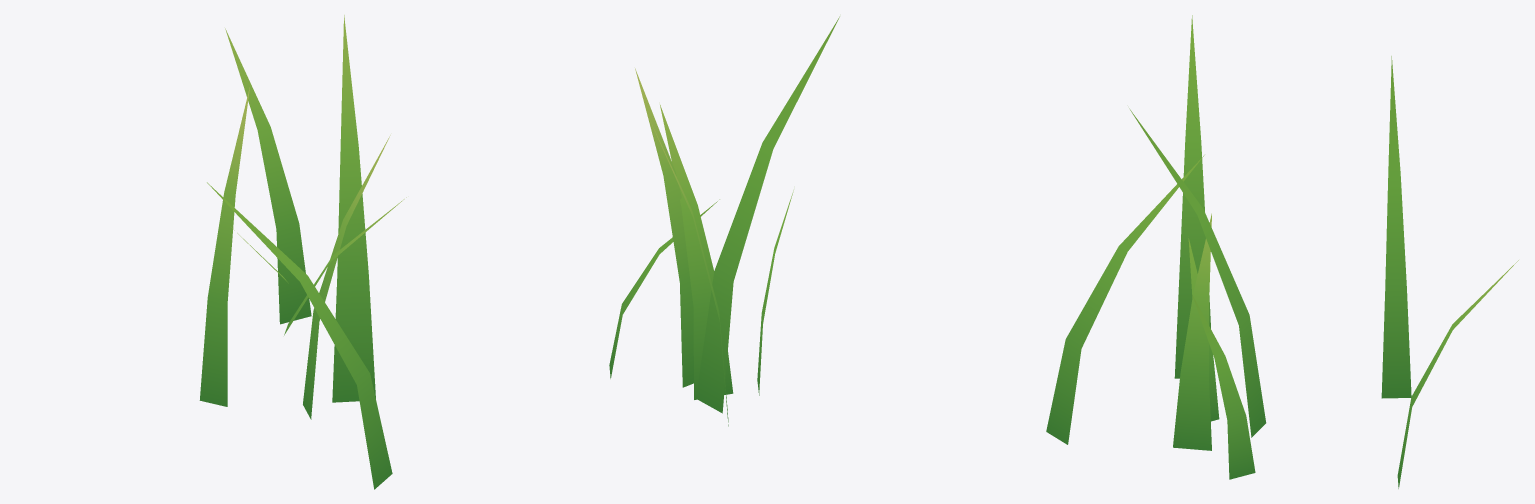
The model's file is dress_grass.glb.
The picture shows the model from 3 angles, left to right: view 1: azimuth 30°, elevation 25°; view 2: azimuth 150°, elevation 25°; view 3: azimuth 270°, elevation 25°; orthographic projection. The views are drawn at different scales.
Visible parts, largest first — view 1: grass; view 2: grass; view 3: grass.
Boxes of the visible parts, bbox=[...] form: grass: bbox=[199, 15, 406, 489]; grass: bbox=[609, 16, 839, 426]; grass: bbox=[1046, 15, 1518, 488].
Bounding box in the file's own units: 0.6775 × 0.586 × 0.7861.
